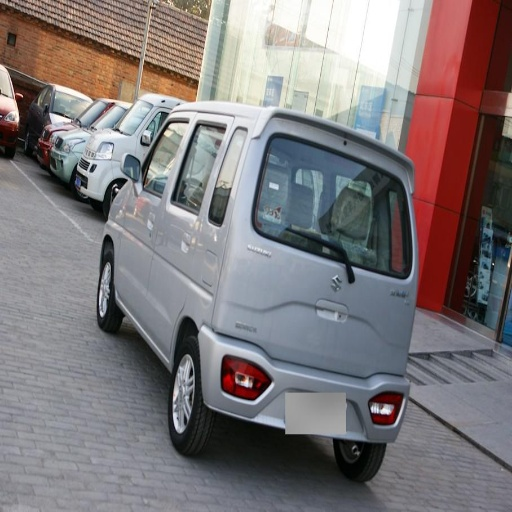back_bumper: (207, 333, 410, 441)
trunk: (236, 276, 415, 376)
